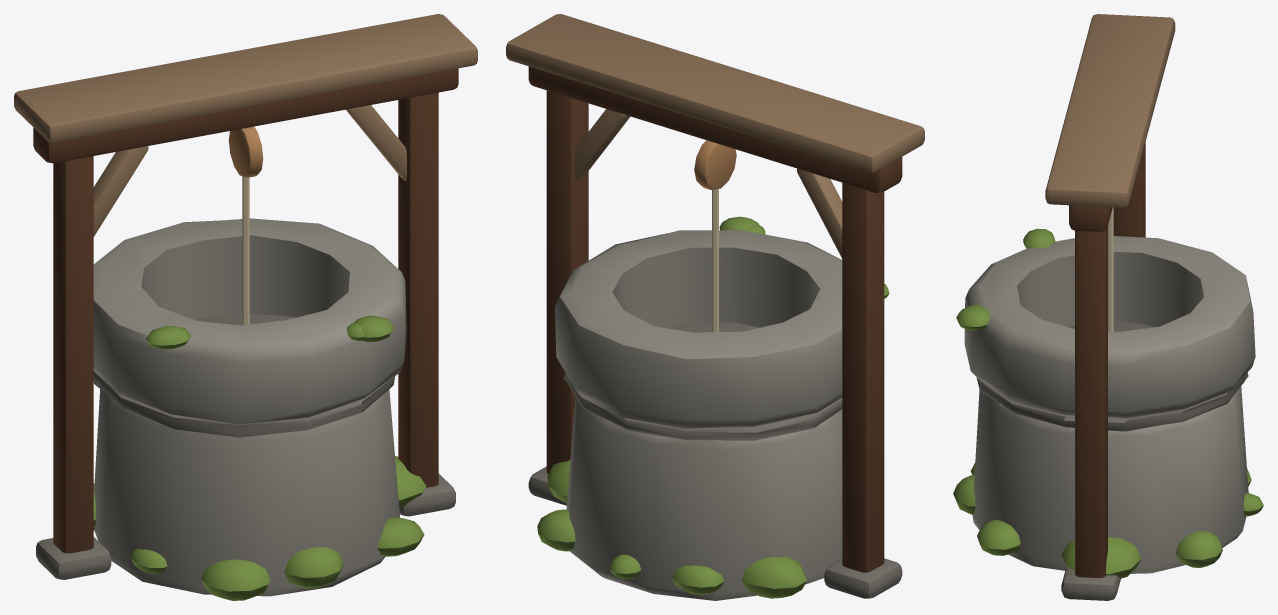
Rendered from well.glb.
The picture shows the model from 3 angles, left to right: view 1: azimuth 30°, elevation 25°; view 2: azimuth 150°, elevation 25°; view 3: azimuth 270°, elevation 25°; orthographic projection. The views are drawn at different scales.
Visible parts, largest first — view 1: well; view 2: well; view 3: well.
Boxes of the visible parts, bbox=[...] form: well: bbox=[14, 14, 477, 600]; well: bbox=[506, 14, 924, 600]; well: bbox=[953, 14, 1263, 600].
Size of what is drawn, in the model's own units: 1.52 by 1.65 by 1.11.
